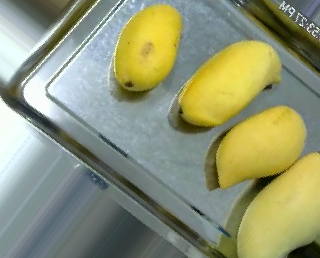Mango: (235, 151, 320, 258), (179, 39, 281, 126), (216, 105, 305, 186), (113, 5, 181, 92)
